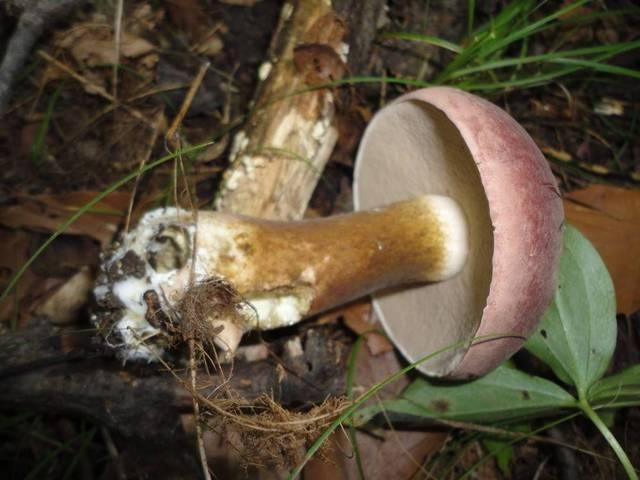Non-edible Mushroom: (89, 83, 548, 383)
